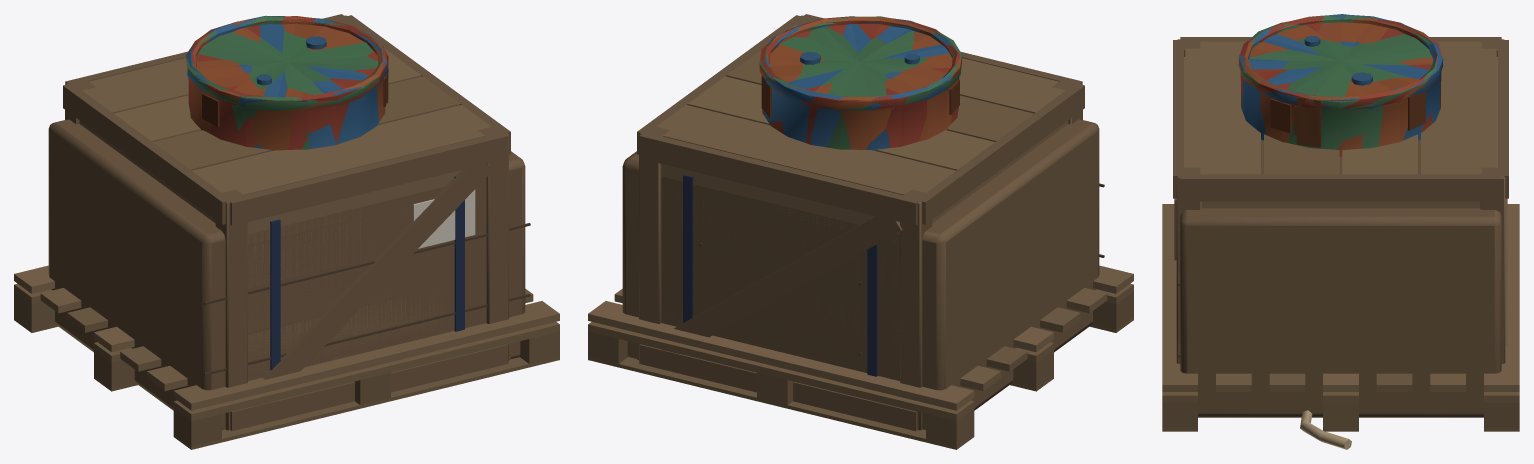
File: gloryland-dock-props.glb
The picture shows the model from 3 angles, left to right: view 1: azimuth 30°, elevation 25°; view 2: azimuth 150°, elevation 25°; view 3: azimuth 270°, elevation 25°; orthographic projection.
Visible parts, largest first — view 1: Dock_crate, Cargo, Pallet, Oil_drum_green, Oil_drum_rust, Oil_drum_blue, Oil_drum_red; view 2: Cargo, Dock_crate, Pallet, Oil_drum_green, Oil_drum_rust, Oil_drum_blue, Oil_drum_red; view 3: Cargo, Dock_crate, Pallet, Oil_drum_green, Oil_drum_rust, Oil_drum_blue, Oil_drum_red, Rope_coil.
Boxes of the visible parts, <box> form: Dock_crate: <box>63,14,510,431</box>; Cargo: <box>48,119,530,427</box>; Pallet: <box>14,265,559,449</box>; Oil_drum_green: <box>186,16,384,149</box>; Oil_drum_rust: <box>186,17,388,150</box>; Oil_drum_blue: <box>186,15,388,149</box>; Oil_drum_red: <box>186,16,388,149</box>; Cargo: <box>622,119,1104,427</box>; Dock_crate: <box>637,14,1084,431</box>; Pallet: <box>588,265,1133,449</box>; Oil_drum_green: <box>759,17,961,149</box>; Oil_drum_rust: <box>760,16,961,149</box>; Oil_drum_blue: <box>761,17,962,150</box>; Oil_drum_red: <box>759,16,959,147</box>; Cargo: <box>1178,208,1501,417</box>; Dock_crate: <box>1173,37,1508,363</box>; Pallet: <box>1162,204,1519,431</box>; Oil_drum_green: <box>1238,14,1436,149</box>; Oil_drum_rust: <box>1239,16,1443,156</box>; Oil_drum_blue: <box>1239,14,1443,140</box>; Oil_drum_red: <box>1238,16,1442,138</box>; Rope_coil: <box>1300,410,1351,449</box>.
Size of the model in its own units: 1.33 by 1.03 by 1.
